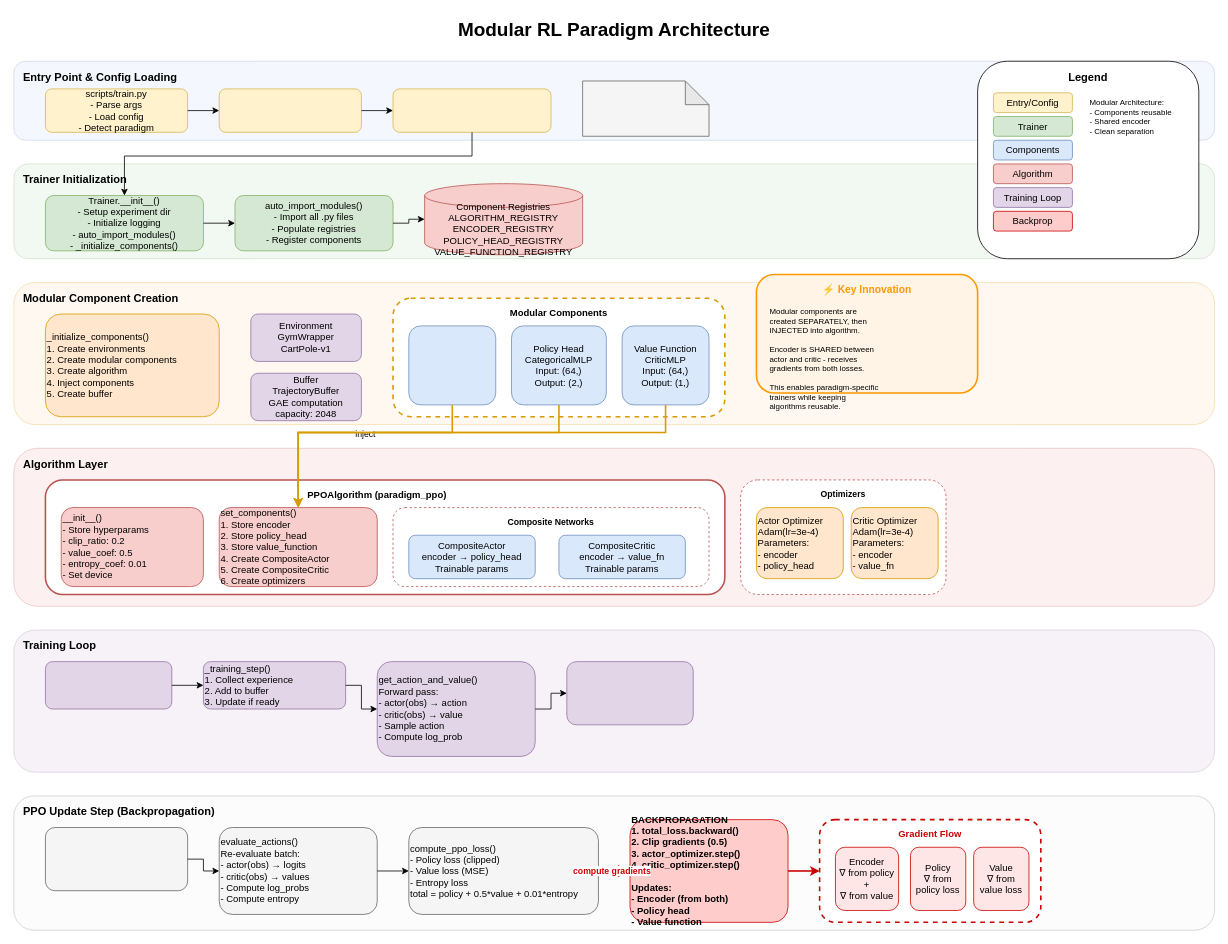
The diagram is 1228 pixels wide and 944 high, and some of its shapes have lost their labels. Here are the shapes that lost their labels. From the top down, the centre of each, then its label:
At point 289,110: "load_config() - Parse YAML - Validate - Apply overrides".
At point 471,110: "get_trainer_for_paradigm() - Dynamic import - Returns trainer factory".
At point 645,108: "ppo_cartpole.yaml paradigm: model_free algorithm: paradigm_ppo".
At point 452,365: "Encoder MLPEncoder Input: (4,) Output: (64,)".
At point 108,685: "train() Main training loop Until total_timesteps".
At point 629,693: "environment.step() Execute action Get reward, done Track episodes".
At point 116,859: "algorithm.update() For 4 epochs: For each minibatch: Compute losses".
